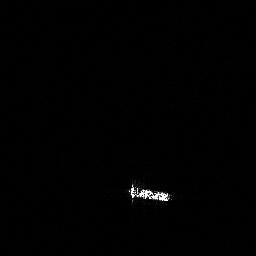ship: (124, 179, 174, 205)
